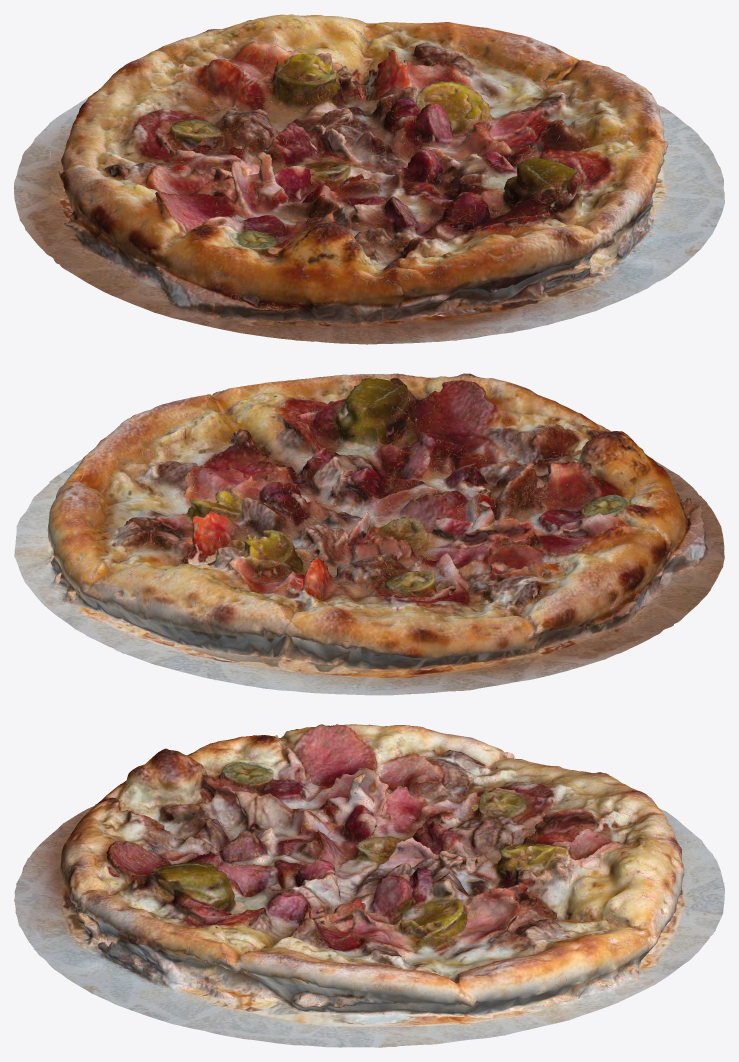
File: pizza-big-boss-android.glb
3 renders of one model, top to bottom at view 1: azimuth 30°, elevation 25°; view 2: azimuth 150°, elevation 25°; view 3: azimuth 270°, elevation 25°, orthographic.
Visible parts, largest first — view 1: decMesh_pizza_0, decMesh_pizza_1; view 2: decMesh_pizza_0, decMesh_pizza_1; view 3: decMesh_pizza_0, decMesh_pizza_1.
Boxes of the visible parts, x1,y1,x2,y2 form: decMesh_pizza_0: (14,14,724,344); decMesh_pizza_1: (24,15,699,325); decMesh_pizza_0: (14,373,724,695); decMesh_pizza_1: (49,373,667,695); decMesh_pizza_0: (14,724,724,1047); decMesh_pizza_1: (14,724,676,1047).
Bounding box in the file's own units: 0.3994 × 0.0484 × 0.3993.
Materials: 1 (1 with a texture image).
